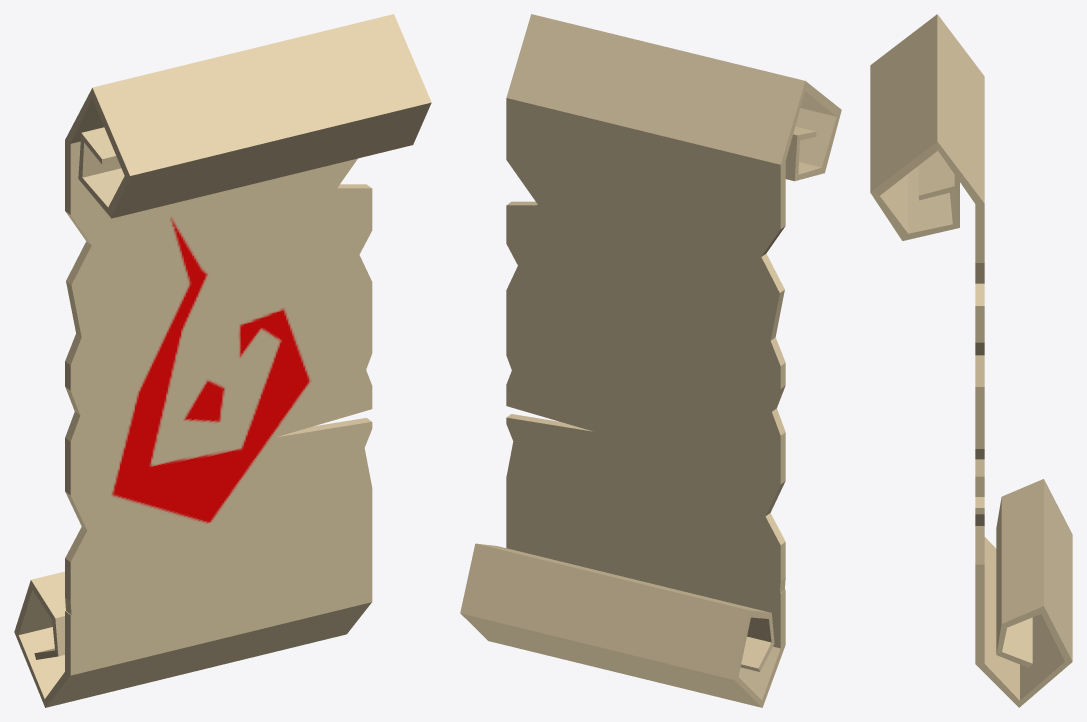
The model's file is ScrollV6.fbx.
3 renders of one model, left to right at view 1: azimuth 30°, elevation 25°; view 2: azimuth 150°, elevation 25°; view 3: azimuth 270°, elevation 25°, orthographic. The views are drawn at different scales.
Visible parts, largest first — view 1: Cube; view 2: Cube; view 3: Cube.
Part boxes in pixels (x1=…): Cube: x1=14, y1=14, x2=431, y2=707; Cube: x1=460, y1=14, x2=841, y2=707; Cube: x1=870, y1=14, x2=1072, y2=707.
Size of the model in its own units: 299 by 614 by 199.
1 material, 1 textured.
